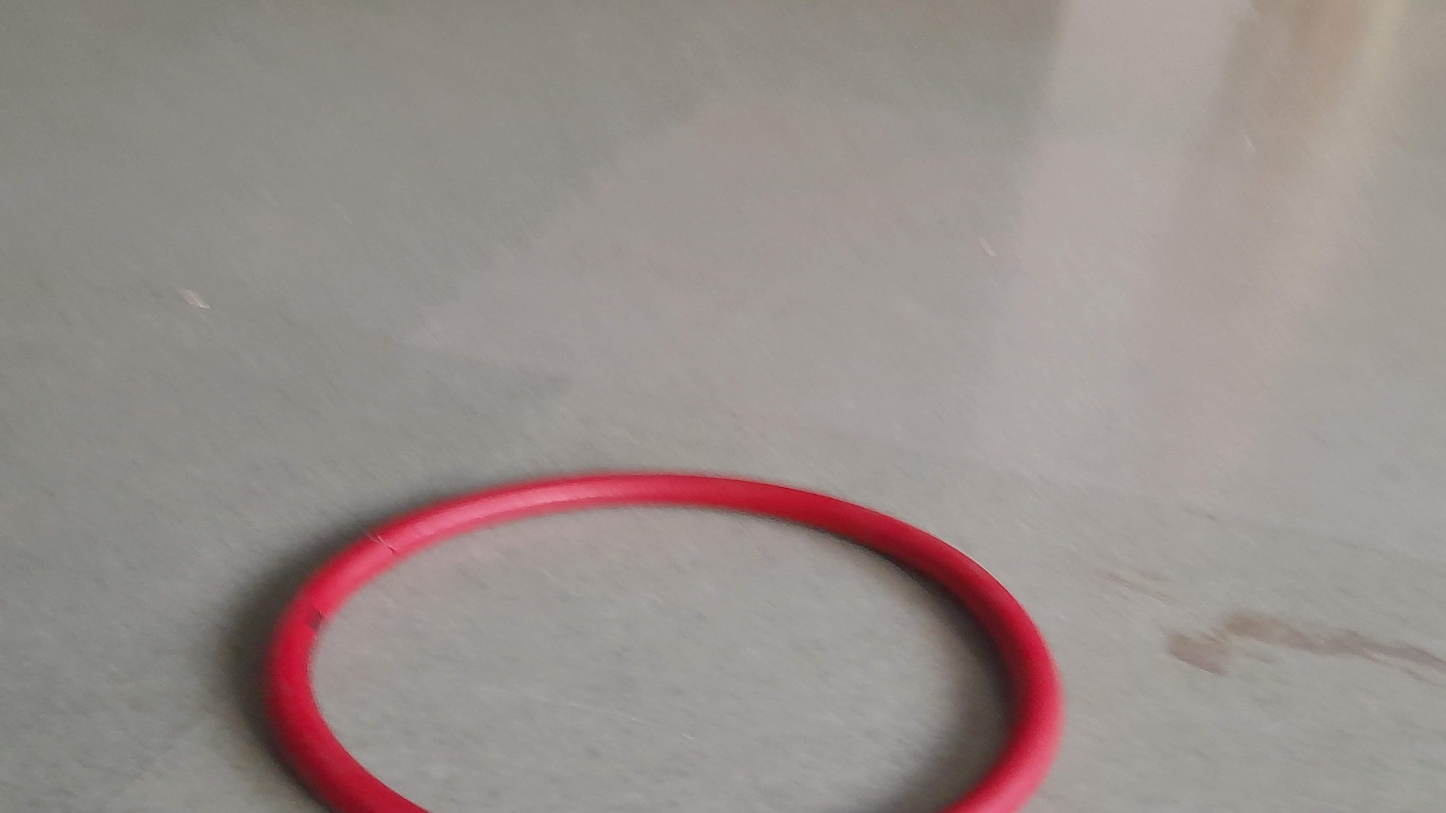Red ring: (262, 477, 1057, 813)
